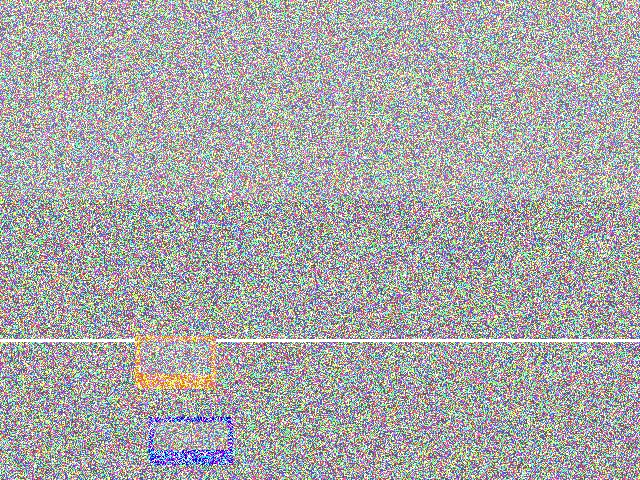truck: (335, 213, 470, 326), (194, 210, 350, 281), (269, 170, 336, 230)
